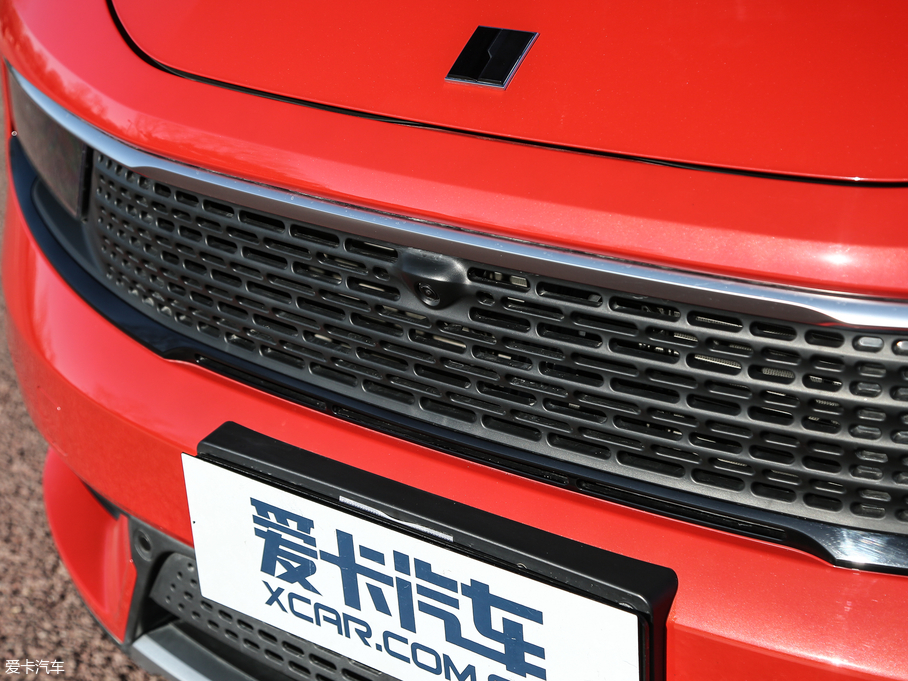LINK&CO: (444, 25, 538, 90)
